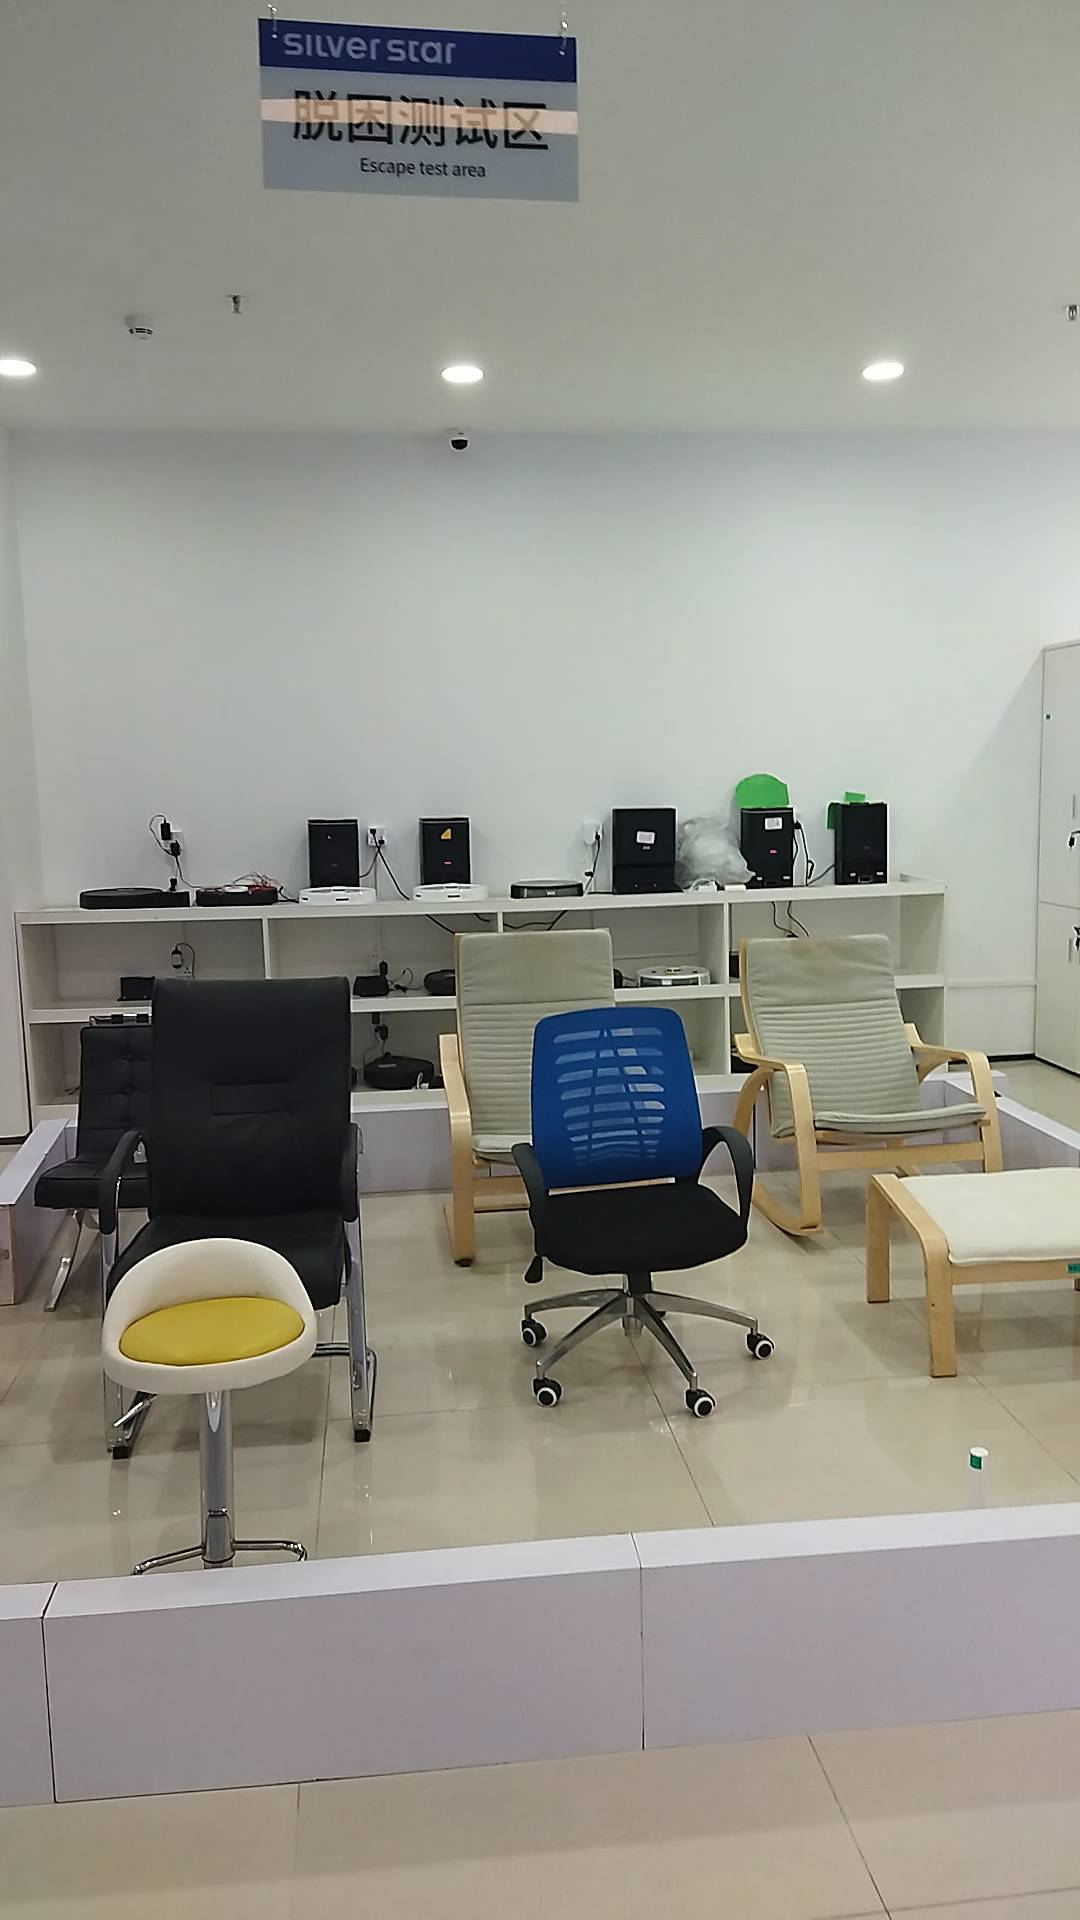dust collecting barrel: (611, 806, 686, 893), (738, 806, 800, 884), (833, 804, 889, 886), (419, 815, 473, 884), (306, 820, 360, 887)
recharge seat: (117, 972, 152, 1002), (348, 977, 398, 997)
